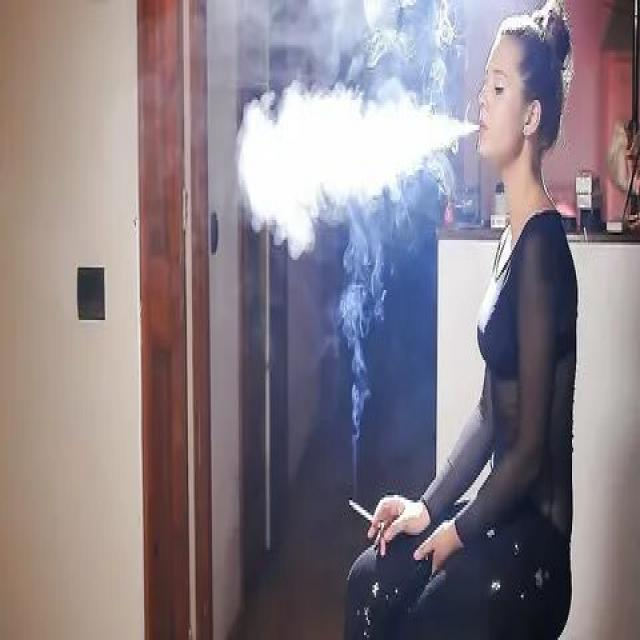smoke: (348, 495, 383, 533)
